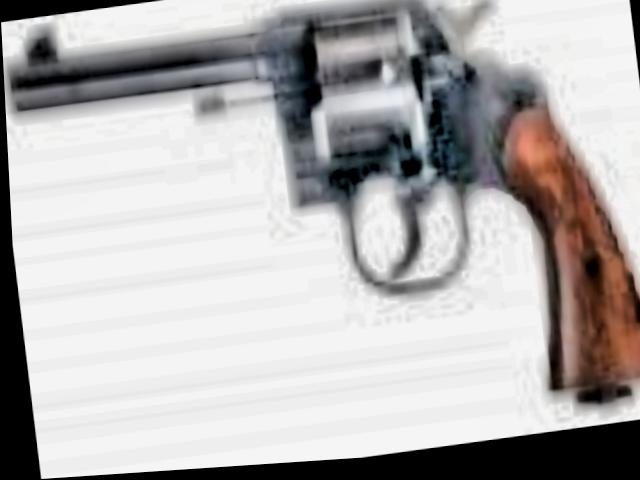pistol: (0, 0, 640, 469)
